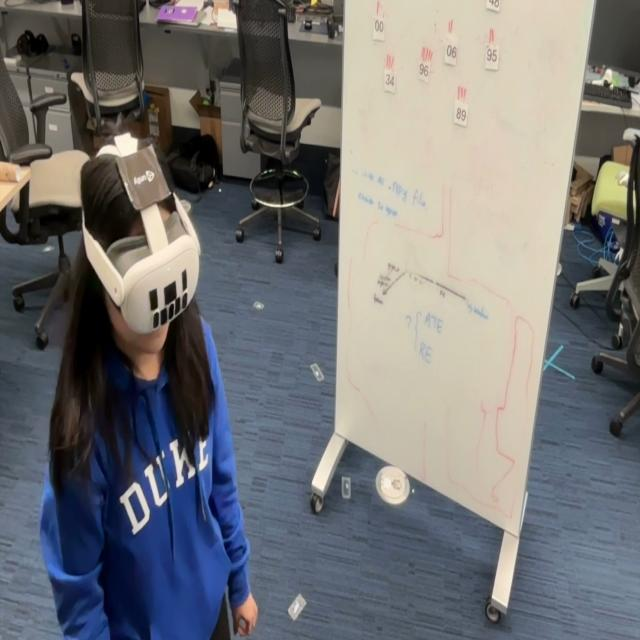Headset: (80, 143, 201, 336)
UnityLogo: (112, 146, 172, 214)
